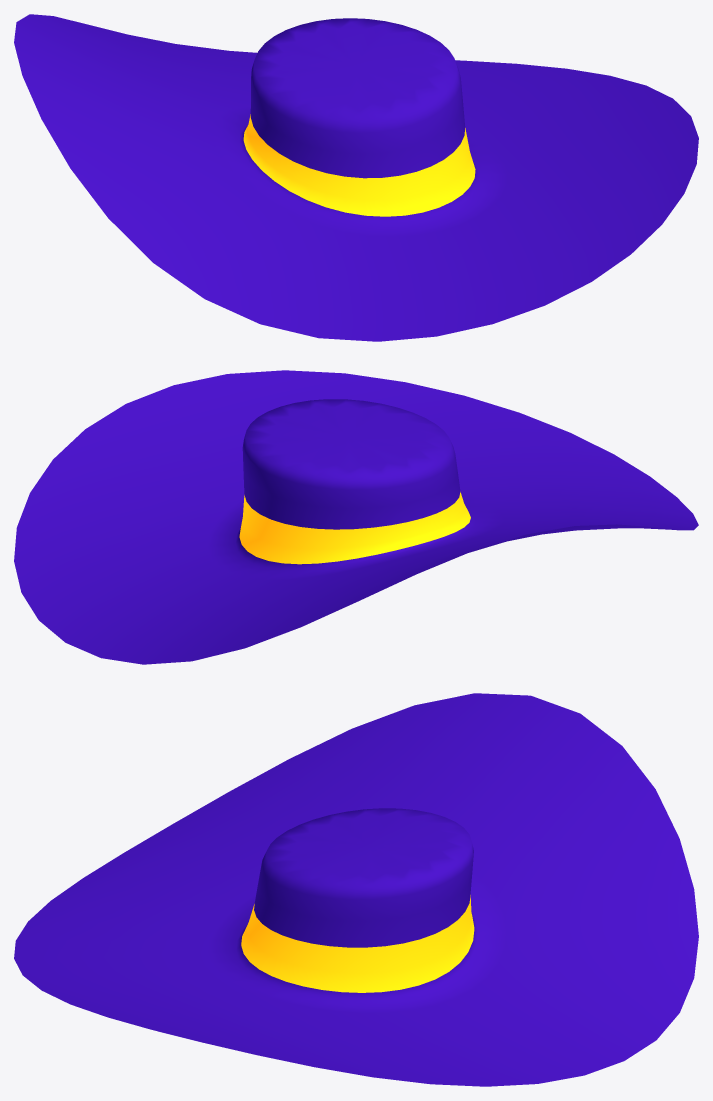
File: Hat.fbx
3 renders of one model, top to bottom at view 1: azimuth 30°, elevation 25°; view 2: azimuth 150°, elevation 25°; view 3: azimuth 270°, elevation 25°, orthographic.
Visible parts, largest first — view 1: Box002; view 2: Box002; view 3: Box002.
Boxes of the visible parts, <box> form: Box002: <box>14,14,698,341</box>; Box002: <box>14,370,698,664</box>; Box002: <box>14,693,698,1086</box>.
Bounding box in the file's own units: 64.69 × 16.61 × 66.49.
